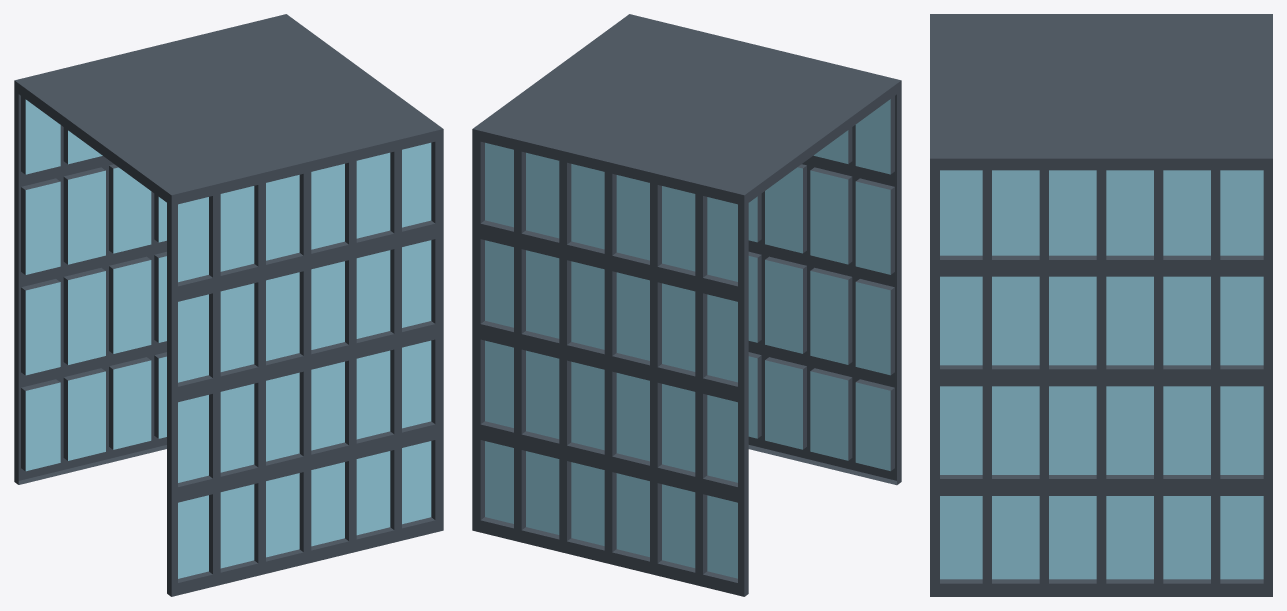
Rendered from office M.fbx.
3 views of the same model, side by side, from view 1: azimuth 30°, elevation 25°; view 2: azimuth 150°, elevation 25°; view 3: azimuth 270°, elevation 25° (orthographic). The views are drawn at different scales.
Parts seen in each view (by area): view 1: office M; view 2: office M; view 3: office M.
Part boxes in pixels (x1=…): office M: x1=14, y1=14, x2=443, y2=596; office M: x1=472, y1=14, x2=901, y2=596; office M: x1=930, y1=14, x2=1272, y2=596.
Size of the model in its own units: 530 by 748 by 530.
